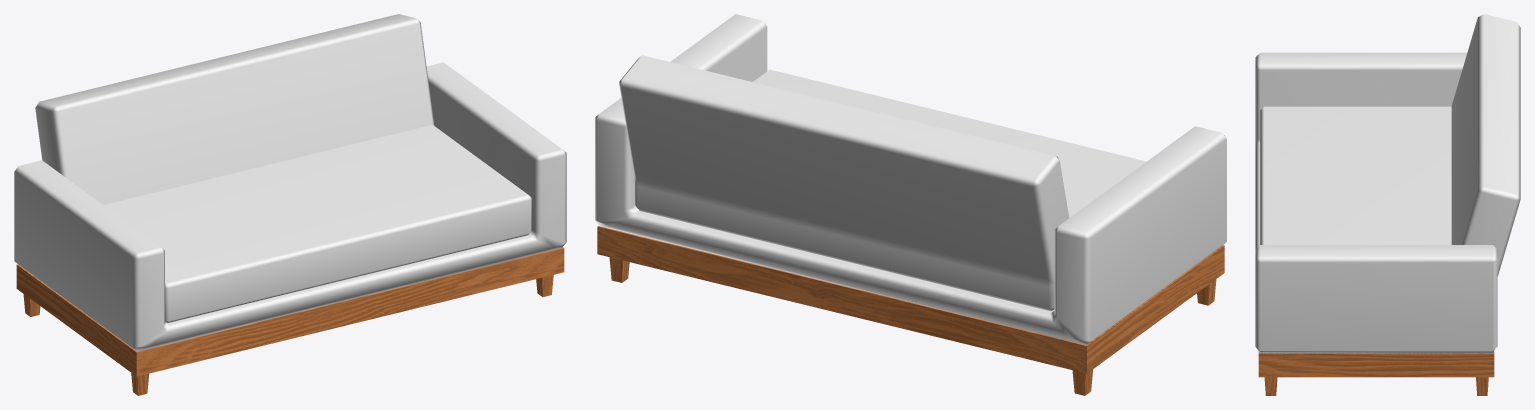
The model's file is sofa_023.fbx.
The picture shows the model from 3 angles, left to right: view 1: azimuth 30°, elevation 25°; view 2: azimuth 150°, elevation 25°; view 3: azimuth 270°, elevation 25°; orthographic projection. The views are drawn at different scales.
Parts seen in each view (by area): view 1: sofa_023; view 2: sofa_023; view 3: sofa_023.
Boxes of the visible parts, bbox=[...] form: sofa_023: bbox=[14, 14, 566, 395]; sofa_023: bbox=[595, 14, 1226, 395]; sofa_023: bbox=[1255, 14, 1520, 395].
Bounding box in the file's own units: 277 × 150 × 123.
